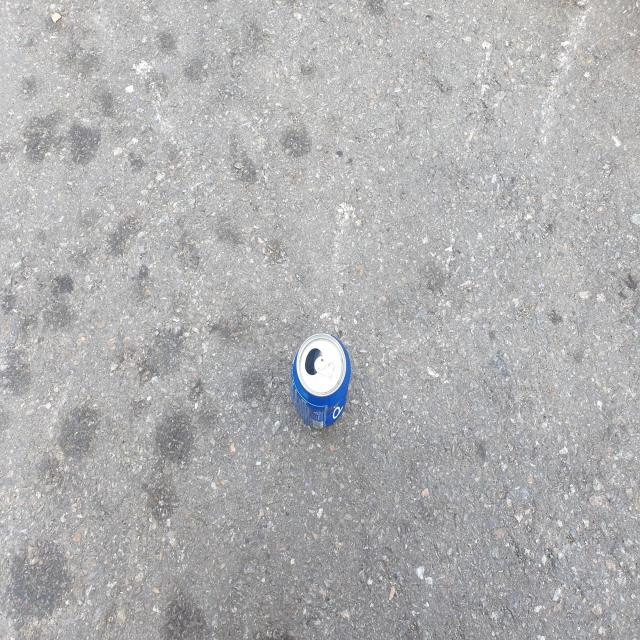can: (291, 333, 351, 429)
